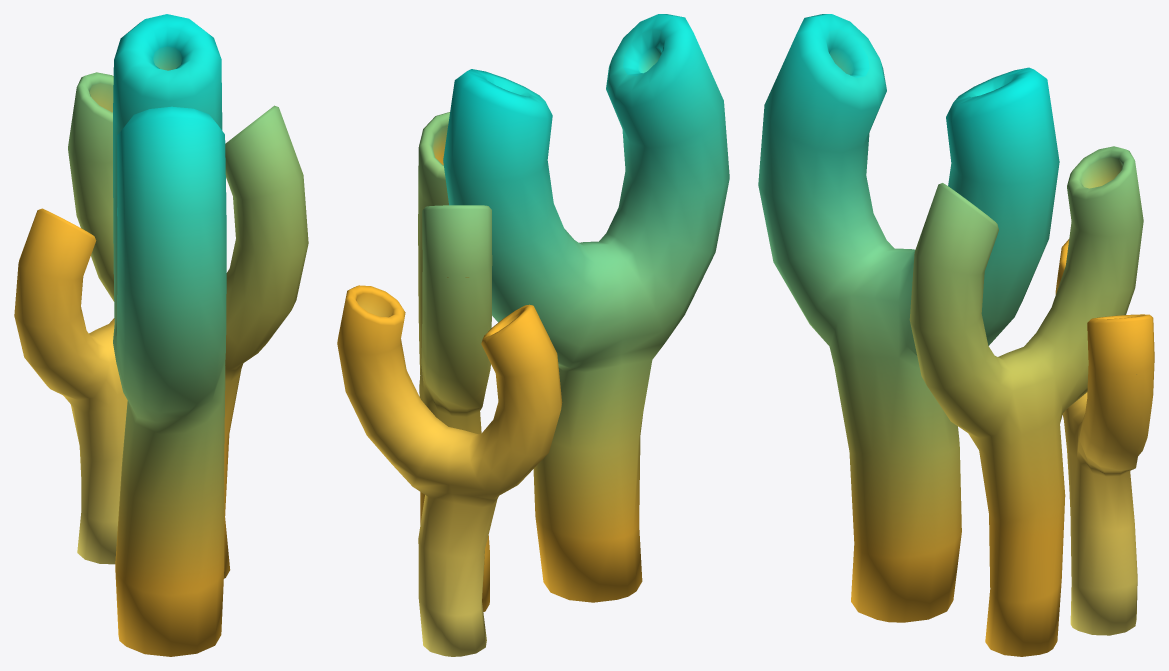
The model's file is Coral_01.fbx.
The picture shows the model from 3 angles, left to right: view 1: azimuth 30°, elevation 25°; view 2: azimuth 150°, elevation 25°; view 3: azimuth 270°, elevation 25°; orthographic projection. The views are drawn at different scales.
Visible parts, largest first — view 1: Coral_01; view 2: Coral_01; view 3: Coral_01.
Boxes of the visible parts, box(x1,y1,x2,y2) form: Coral_01: box(14, 14, 308, 656); Coral_01: box(337, 14, 729, 656); Coral_01: box(758, 14, 1154, 656).
Size of the model in its own units: 86.73 by 191 by 122.
